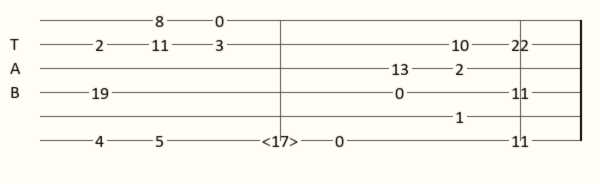0: (215, 13, 228, 28), (335, 133, 348, 148), (395, 85, 408, 100)
1: (455, 109, 468, 124)
10: (451, 37, 473, 52)
11: (151, 37, 173, 52), (511, 133, 533, 148), (511, 85, 533, 100)
13: (391, 61, 413, 76)
19: (91, 85, 113, 100)
2: (95, 37, 108, 52), (455, 61, 468, 76)
22: (511, 37, 533, 52)
3: (215, 37, 228, 52)
4: (95, 133, 108, 148)
5: (155, 133, 168, 148)
8: (155, 13, 168, 28)
harmonic: (262, 133, 302, 148)
